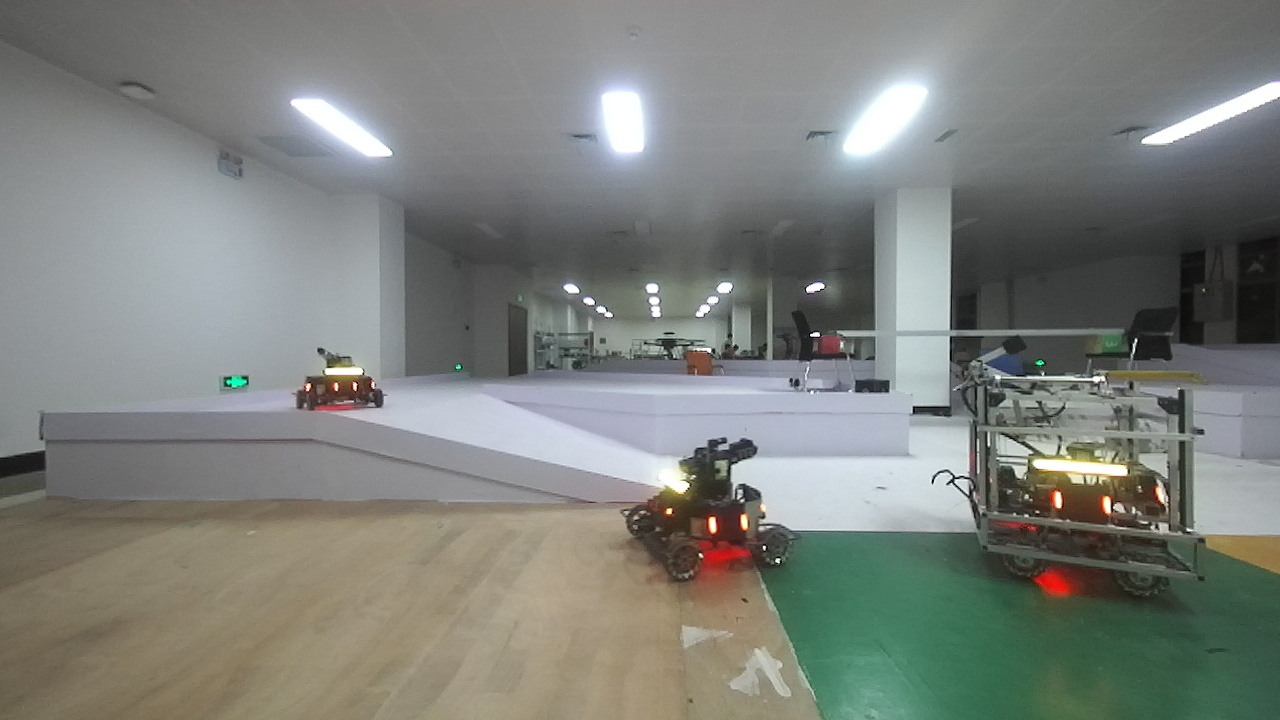car: (941, 348, 1220, 619), (632, 440, 794, 590), (282, 334, 405, 421)
